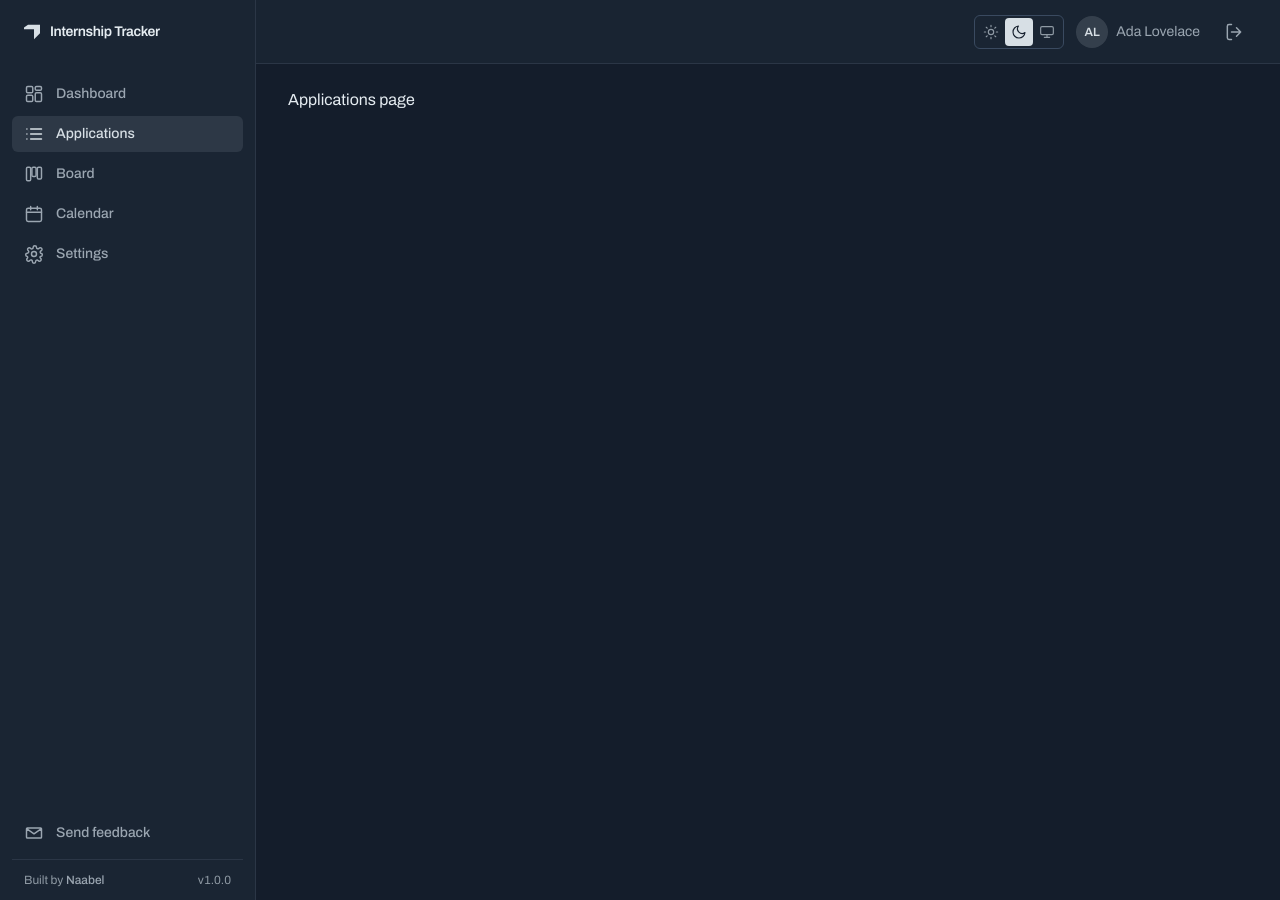
the sidebar lockup › reaches the dashboard from another page
Click the link "Internship Tracker" at (92, 32), box [24, 24, 160, 40]
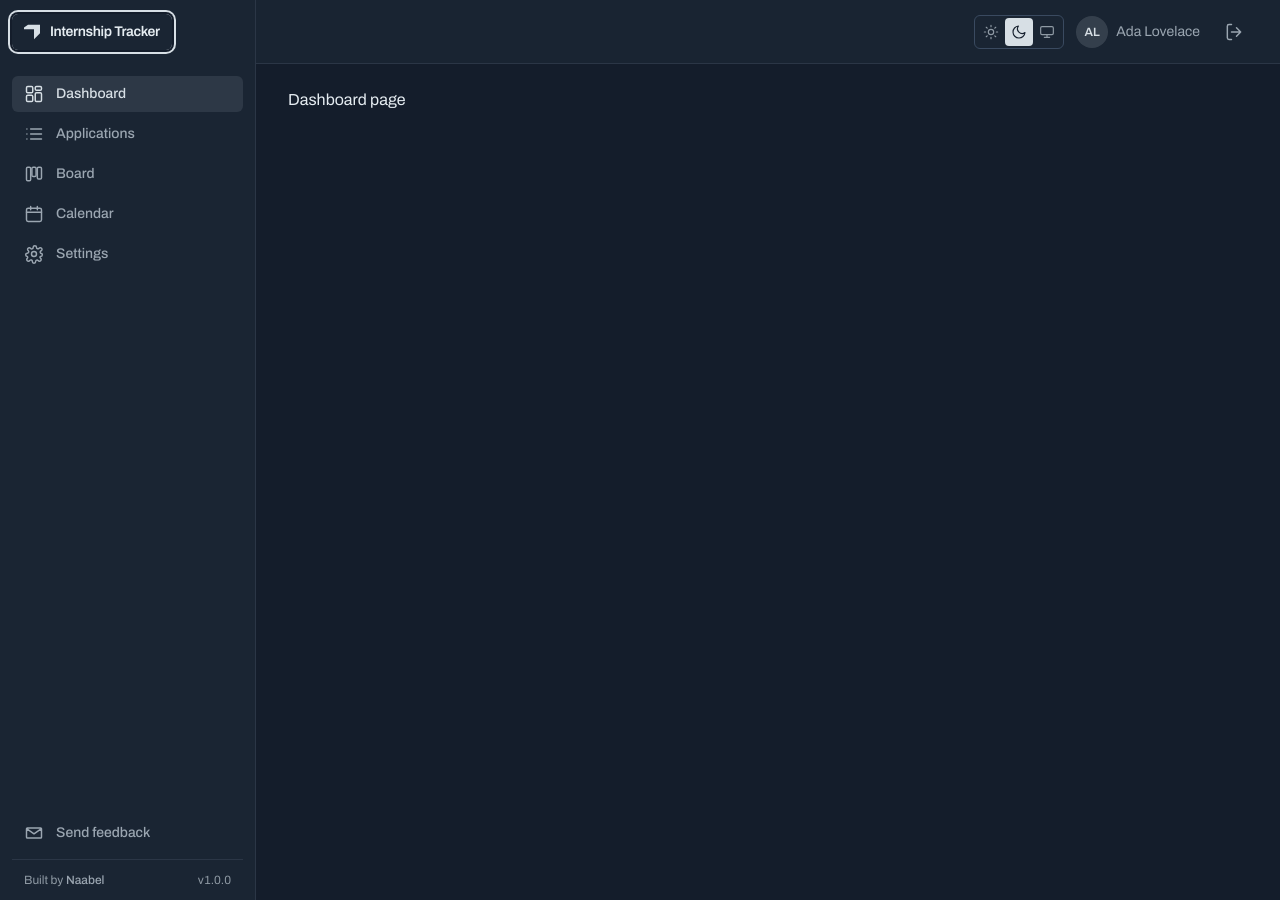
Result: the heading "Dashboard page" is shown at [288, 91, 406, 108]
